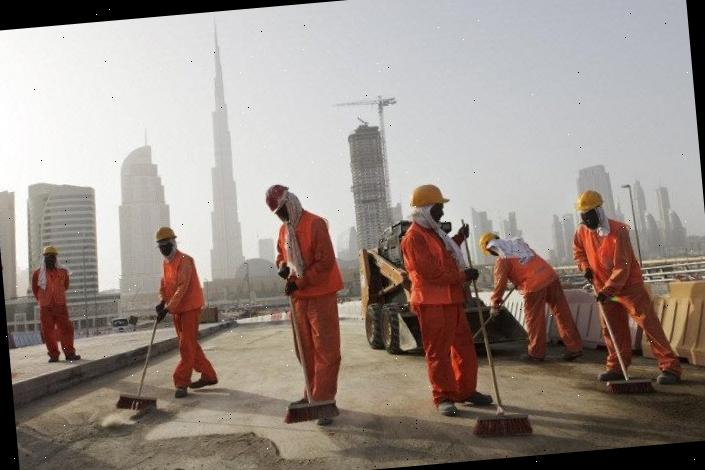helmet: (406, 181, 451, 209), (262, 182, 292, 214), (573, 187, 606, 213), (476, 229, 504, 255), (150, 224, 178, 244), (40, 244, 57, 256)
wear: (398, 220, 462, 304), (576, 219, 640, 298), (276, 218, 336, 296), (498, 236, 556, 294), (162, 254, 202, 313), (32, 264, 67, 306)
